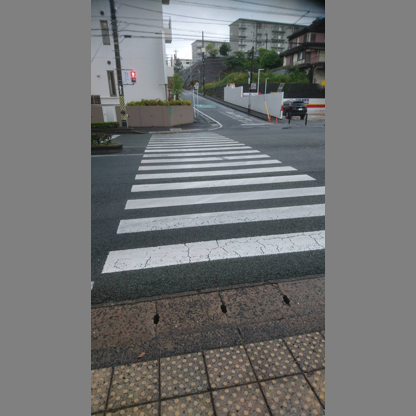brailleblock: (244, 345, 320, 415), (203, 349, 270, 415), (92, 359, 161, 416), (157, 355, 205, 415), (287, 336, 323, 414)
crosswalk: (133, 182, 323, 261), (142, 155, 286, 194), (146, 138, 246, 173)
signal: (130, 69, 137, 84)
